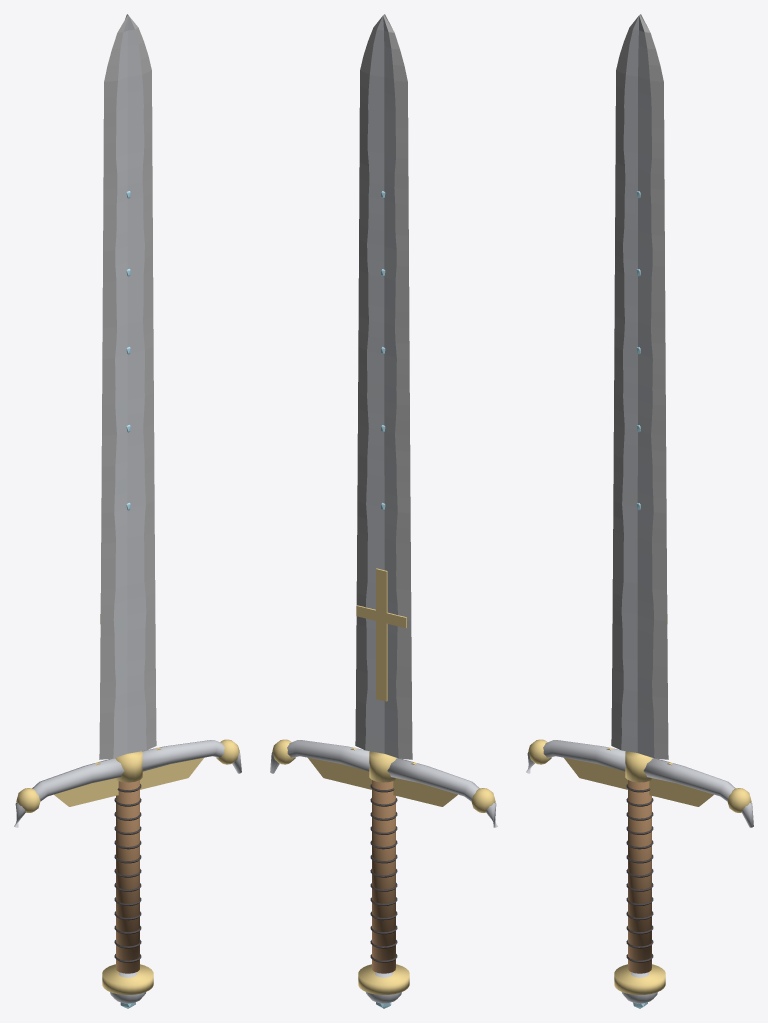
Rendered from eisenstein_zweihaender.glb.
The picture shows the model from 3 angles, left to right: view 1: azimuth 30°, elevation 25°; view 2: azimuth 150°, elevation 25°; view 3: azimuth 330°, elevation 25°; orthographic projection.
Parts seen in each view (by area): view 1: G_eisenstein_zweihaender; view 2: G_eisenstein_zweihaender; view 3: G_eisenstein_zweihaender.
Part boxes in pixels (<box>): G_eisenstein_zweihaender: <box>14,14,241,1008</box>; G_eisenstein_zweihaender: <box>270,14,497,1008</box>; G_eisenstein_zweihaender: <box>526,14,753,1008</box>.
Size of the model in its own units: 0.4577 by 1.91 by 0.09.
